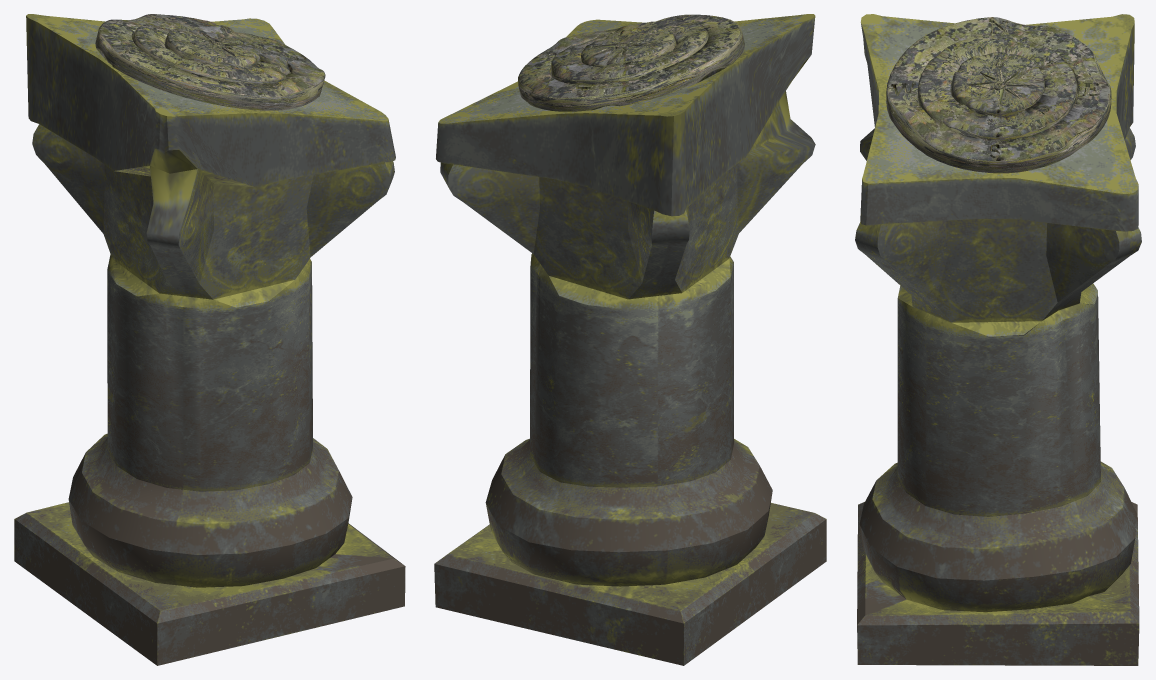
File: CompassPedistalSmaller.fbx
3 views of the same model, side by side, from view 1: azimuth 30°, elevation 25°; view 2: azimuth 150°, elevation 25°; view 3: azimuth 270°, elevation 25° (orthographic). The views are drawn at different scales.
Visible parts, largest first — view 1: pedestal low poly, Cylinder, Cylinder.001, Cylinder.002; view 2: pedestal low poly, Cylinder, Cylinder.001, Cylinder.002; view 3: pedestal low poly, Cylinder, Cylinder.001, Cylinder.002.
Boxes of the visible parts, <box> form: pedestal low poly: <box>14,14,405,665</box>; Cylinder: <box>95,14,325,110</box>; Cylinder.001: <box>132,20,290,88</box>; Cylinder.002: <box>164,28,260,67</box>; pedestal low poly: <box>434,14,826,665</box>; Cylinder: <box>518,14,744,111</box>; Cylinder.001: <box>551,20,708,84</box>; Cylinder.002: <box>581,28,676,67</box>; pedestal low poly: <box>855,14,1141,665</box>; Cylinder: <box>886,17,1111,173</box>; Cylinder.001: <box>917,36,1077,139</box>; Cylinder.002: <box>951,52,1044,117</box>.
Size of the model in its own units: 204 by 430 by 205.
